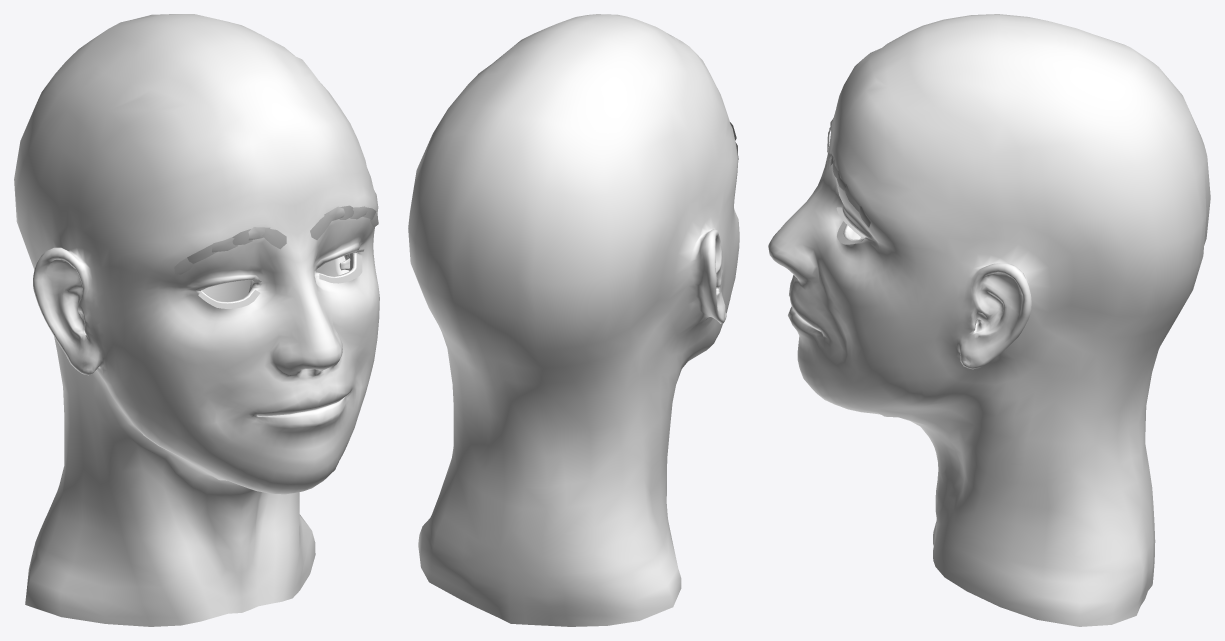
File: browInnerUp.obj
3 renders of one model, left to right at view 1: azimuth 30°, elevation 25°; view 2: azimuth 150°, elevation 25°; view 3: azimuth 270°, elevation 25°, orthographic. The views are drawn at different scales.
Parts seen in each view (by area): view 1: FaceMesh_Plane.003; view 2: FaceMesh_Plane.003; view 3: FaceMesh_Plane.003.
Boxes of the visible parts, left/top/right/bottom form: FaceMesh_Plane.003: left=14, top=14, right=379, bottom=626; FaceMesh_Plane.003: left=408, top=14, right=739, bottom=626; FaceMesh_Plane.003: left=768, top=14, right=1210, bottom=626.
Size of the model in its own units: 1.54 by 2.71 by 1.94.
5 materials, 1 textured.
